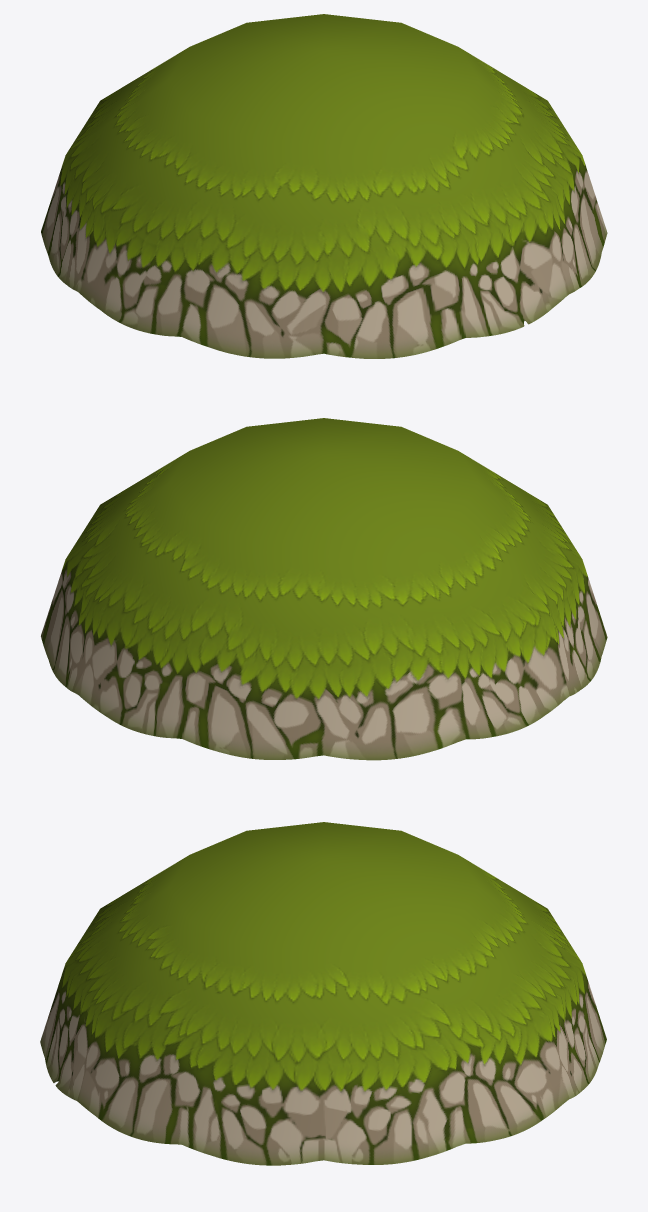
File: Hill_07.FBX
3 views of the same model, one above another, from view 1: azimuth 30°, elevation 25°; view 2: azimuth 150°, elevation 25°; view 3: azimuth 270°, elevation 25° (orthographic).
Parts seen in each view (by area): view 1: Hill_07; view 2: Hill_07; view 3: Hill_07.
Part boxes in pixels (left/top/right/bottom): Hill_07: left=41, top=14, right=607, bottom=358; Hill_07: left=41, top=418, right=607, bottom=760; Hill_07: left=40, top=822, right=606, bottom=1165.
Size of the model in its own units: 151 by 55.58 by 151.
Materials: 1 (1 with a texture image).
